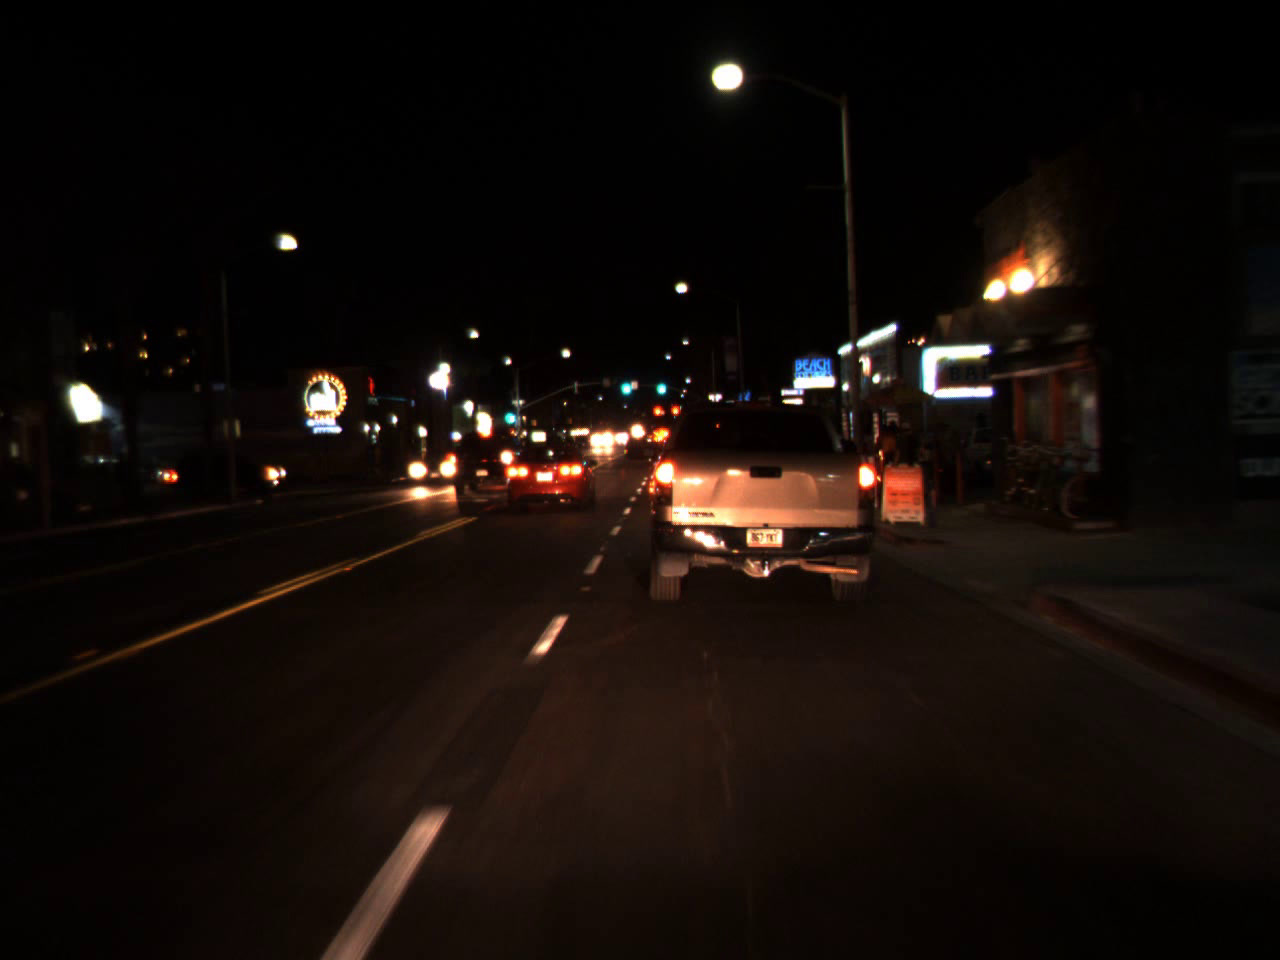go: (617, 369, 635, 399), (654, 369, 668, 399), (502, 400, 516, 427)
